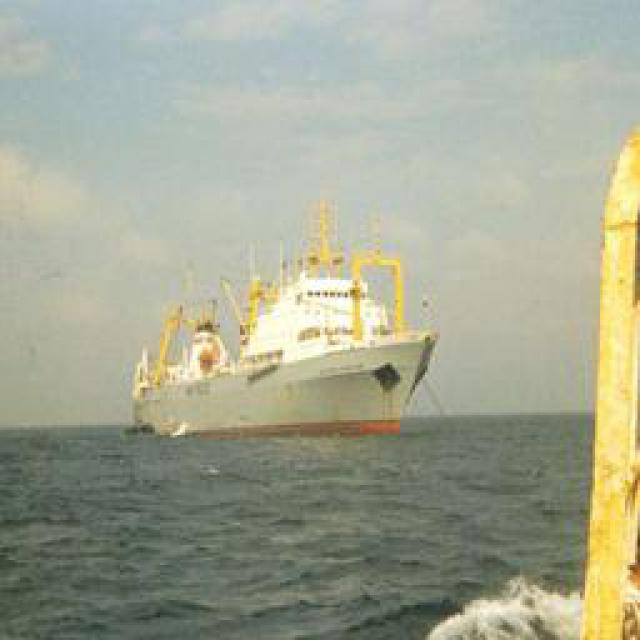Ship: (132, 240, 435, 443)
